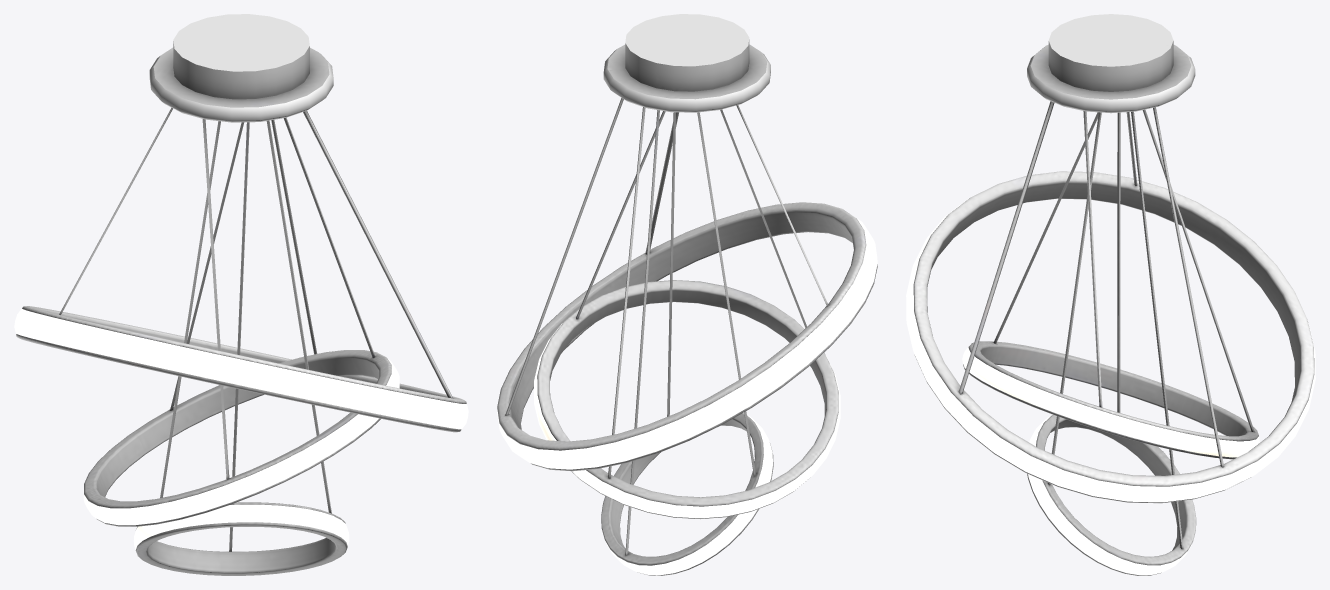
The model's file is ceiling-lamp-5.glb.
3 views of the same model, side by side, from view 1: azimuth 30°, elevation 25°; view 2: azimuth 150°, elevation 25°; view 3: azimuth 270°, elevation 25° (orthographic). The views are drawn at different scales.
Parts seen in each view (by area): view 1: Outer, Mid, base.001, Inner; view 2: Outer, Mid, base.001, Inner; view 3: Outer, Mid, base.001, Inner.
Boxes of the visible parts, x1,y1,x2,y2 form: Outer: (14, 107, 468, 432); Mid: (83, 117, 399, 526); base.001: (149, 14, 333, 122); Inner: (133, 120, 349, 575); Outer: (497, 98, 877, 471); Mid: (534, 107, 840, 519); base.001: (603, 14, 770, 112); Inner: (601, 110, 773, 575); Outer: (906, 101, 1315, 503); Mid: (962, 109, 1259, 459); base.001: (1027, 14, 1195, 113); Inner: (1027, 111, 1196, 575).
Size of the model in its own units: 0.9713 by 1.4 by 1.01.
Materials: 1 (1 with a texture image).
